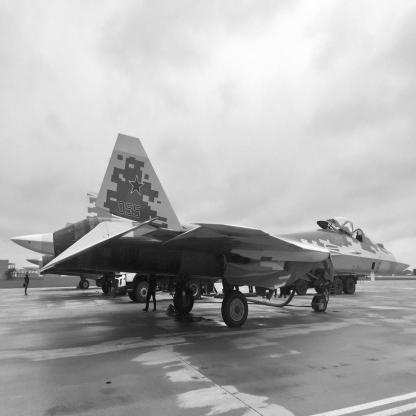Su57: (10, 134, 411, 329)
